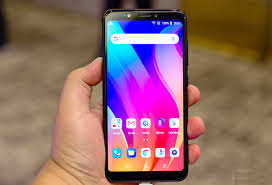vsmart: (99, 5, 191, 184)
